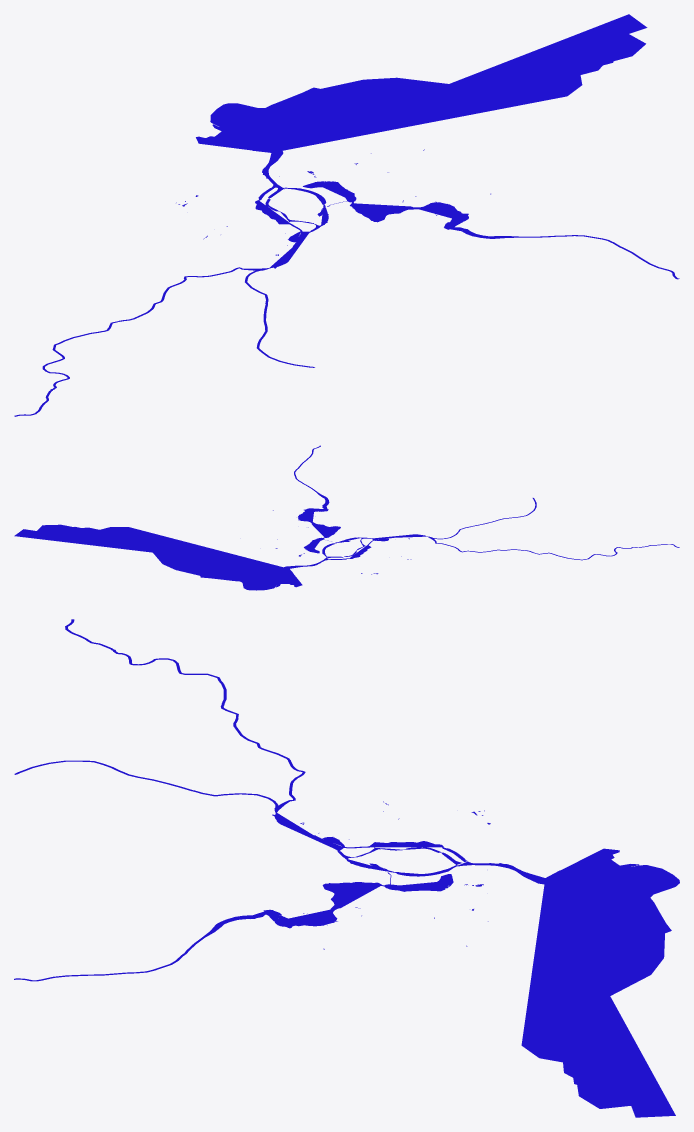
The model's file is ExtraWater.fbx.
3 renders of one model, top to bottom at view 1: azimuth 30°, elevation 25°; view 2: azimuth 150°, elevation 25°; view 3: azimuth 270°, elevation 25°, orthographic. The views are drawn at different scales.
Visible parts, largest first — view 1: WaterMesh; view 2: WaterMesh; view 3: WaterMesh.
Part boxes in pixels (left/top/right/bottom): WaterMesh: left=14, top=14, right=679, bottom=416; WaterMesh: left=14, top=445, right=679, bottom=590; WaterMesh: left=14, top=619, right=679, bottom=1117.
Bounding box in the file's own units: 2142747 × 20979 × 1220123.
